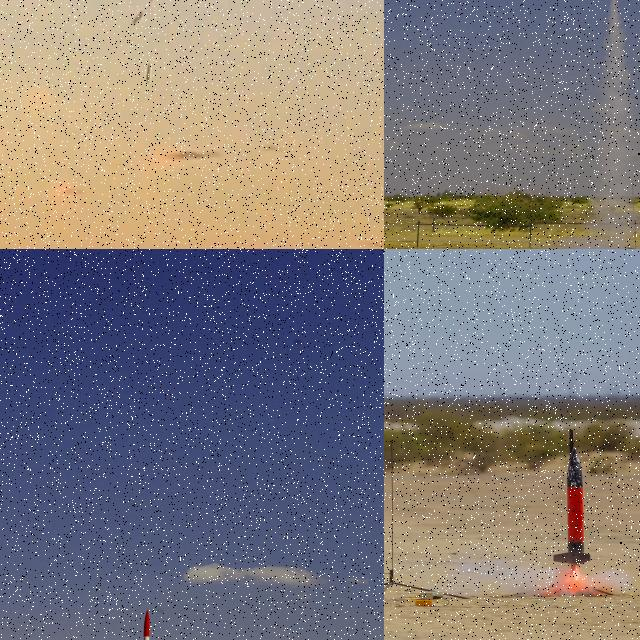Rocket: (138, 609, 152, 640), (146, 63, 151, 81)
